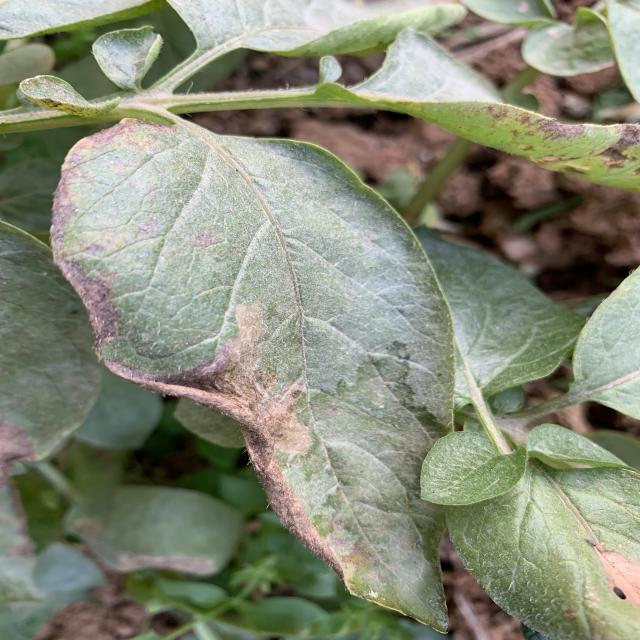lateblight: (105, 300, 347, 581), (52, 124, 128, 362)
